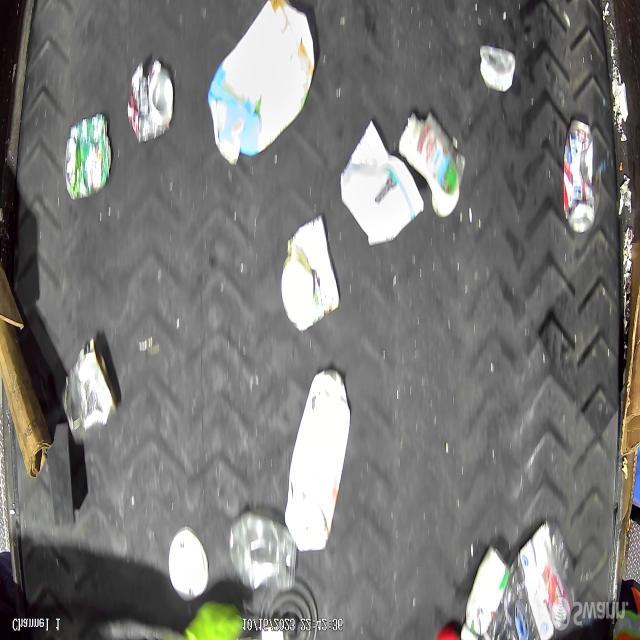can: (62, 342, 120, 446), (64, 112, 113, 202), (562, 115, 599, 234), (128, 56, 176, 144)
non_white_jug: (207, 0, 315, 166), (284, 372, 351, 553)
plastic_bottle: (482, 524, 574, 639), (228, 513, 296, 596)
